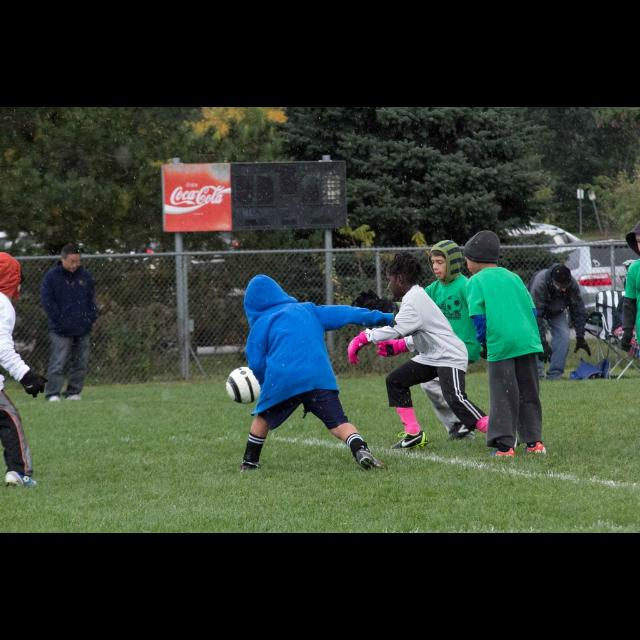Football: (224, 367, 260, 403)
